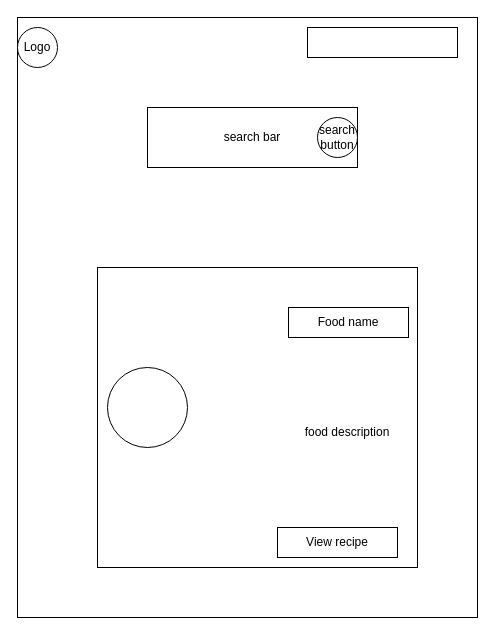
This 495x635 diagram has some shape labels left out. Here are the shapes that lost their labels. From the top down, the centre of each, then its label:
At [382,42]: "Nav-bar".
At [147,407]: "Food image".
